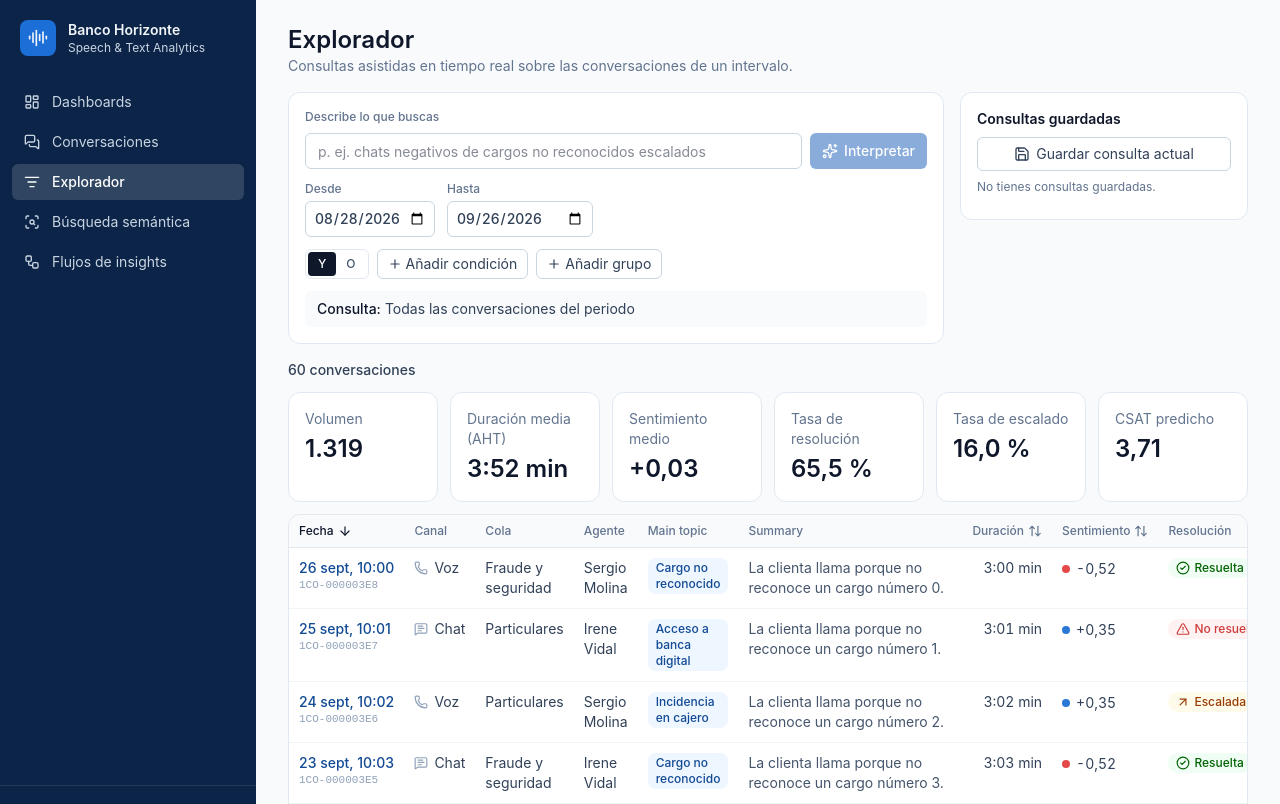
Test: consultas guardadas › guarda la consulta actual sin las condiciones incompletas
Click the button "Añadir condición". click: (452, 264)
box: [377,249,528,279]
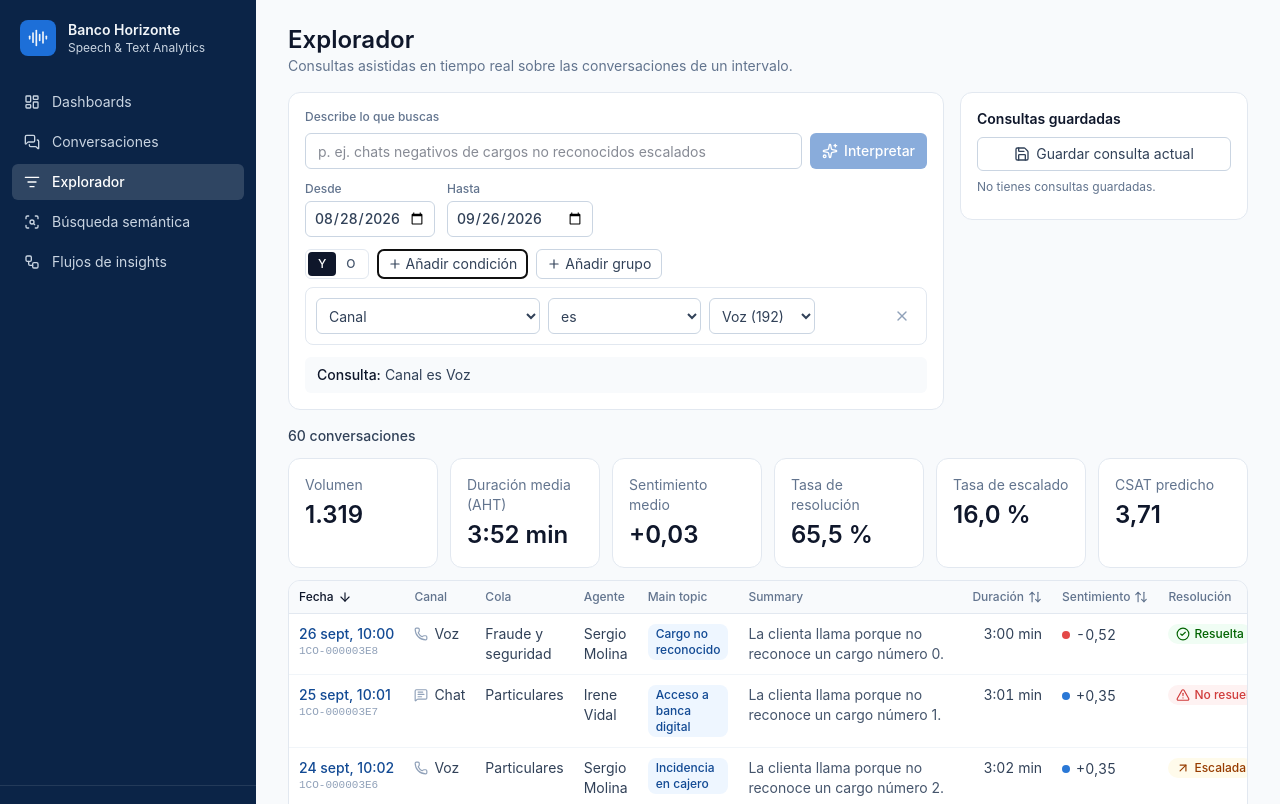
Click the button "Añadir condición". click: (452, 264)
box: [377,249,528,279]
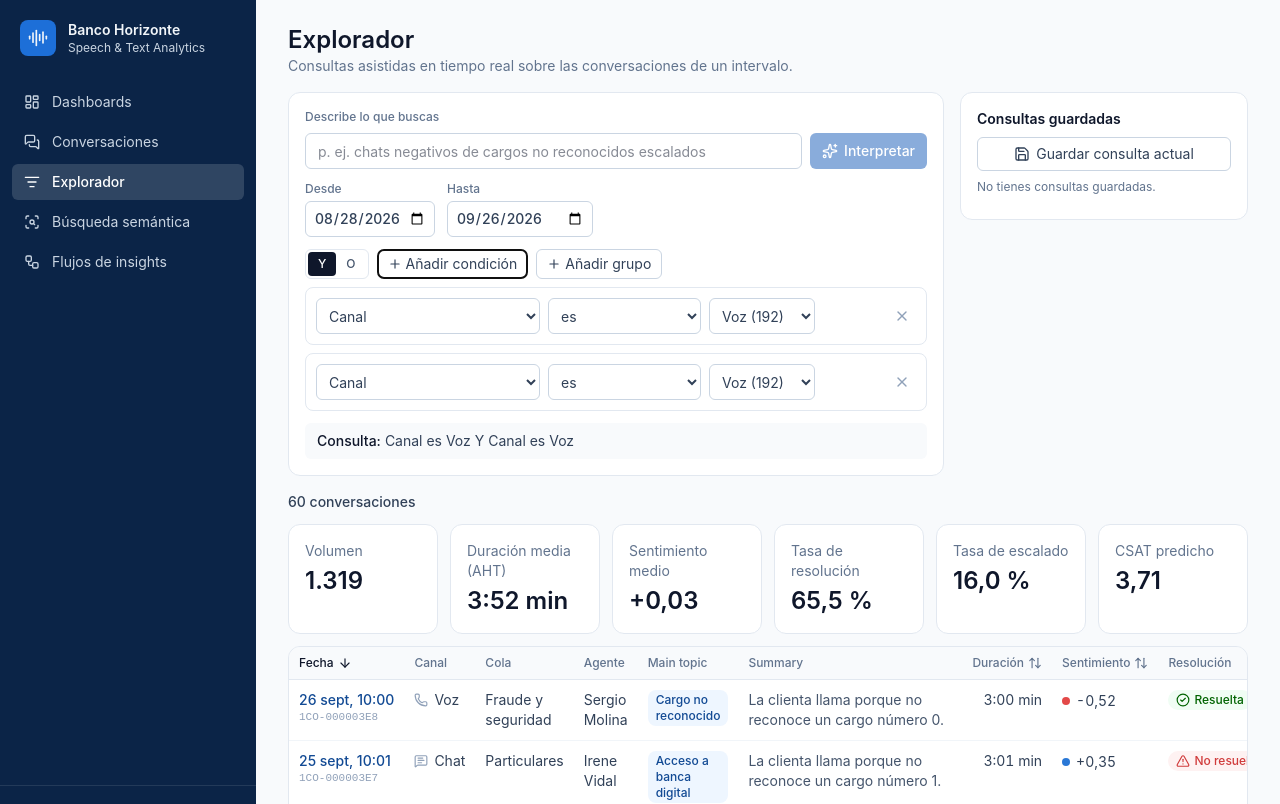
Select "Transcripción" in the 2nd dropdown named "Campo". click: (428, 382)
box: [316,364,540,400]
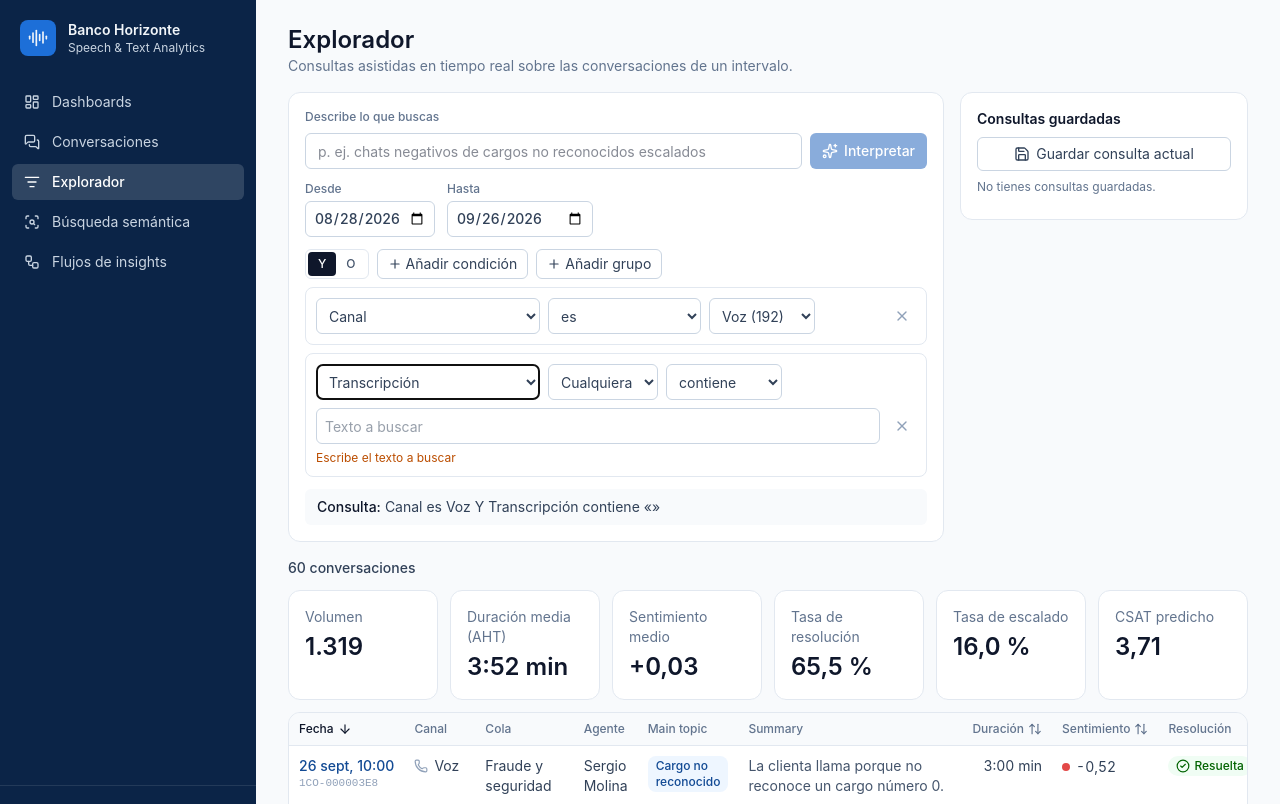
Click the button "Guardar consulta actual". click: (1104, 154)
box: [977,137,1231,171]
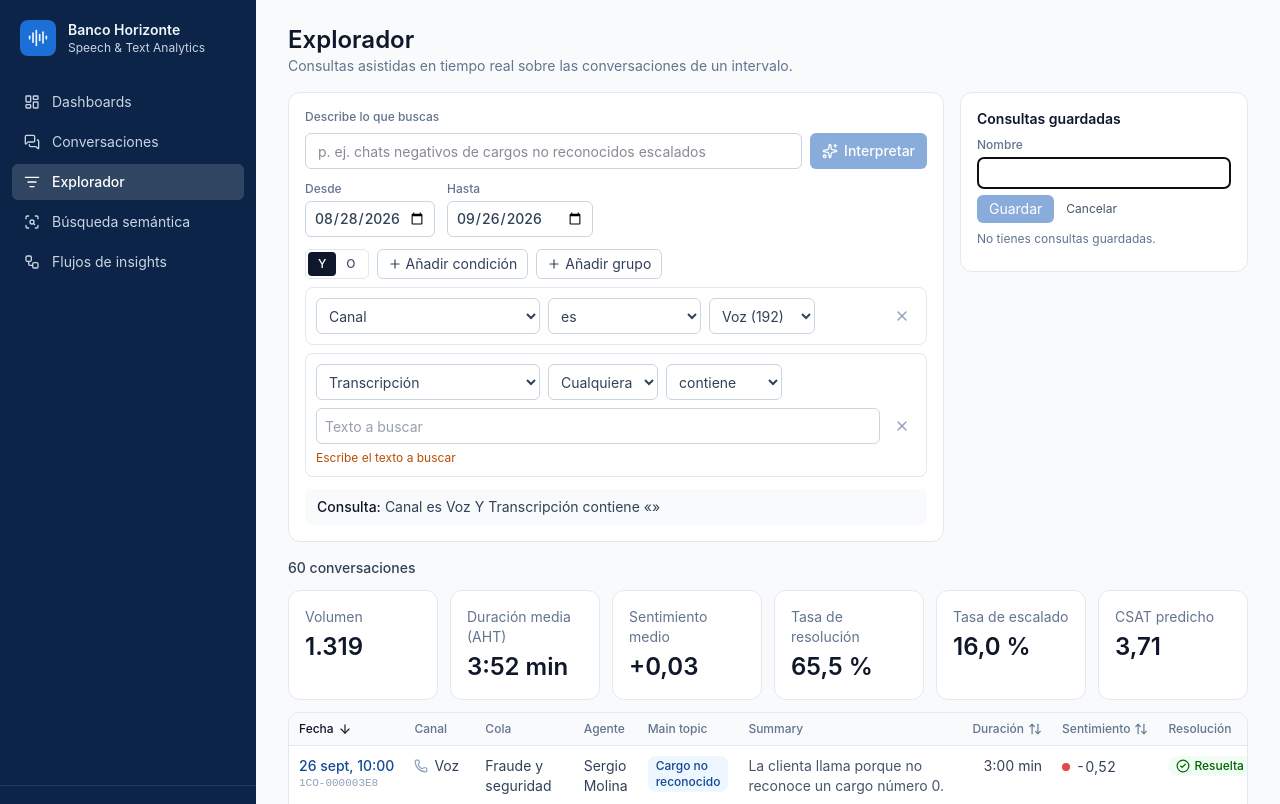
Expected: the button "Guardar" is disabled, [977,195,1054,223]
Type "  Mis llamadas  " into the field labelled "Nombre". click: (1104, 173)
box: [977,157,1231,189]
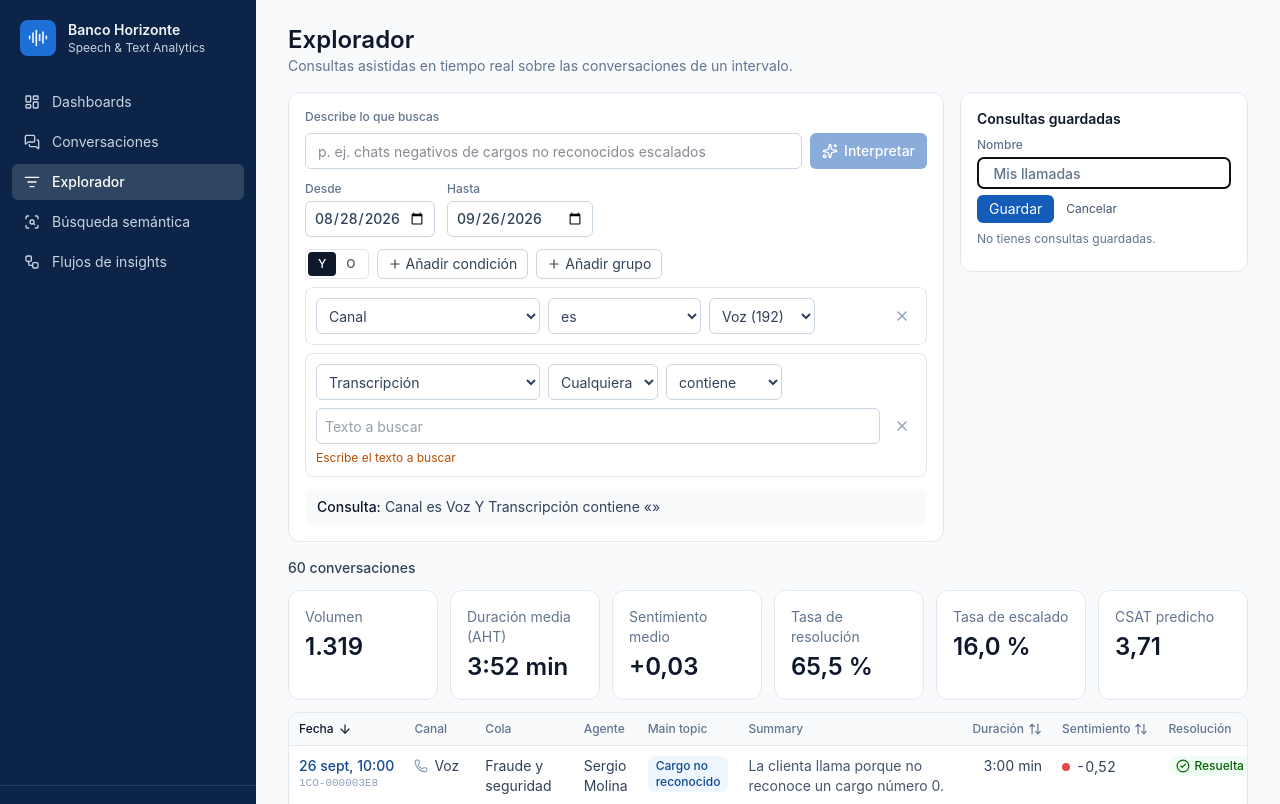
Click the button "Guardar". click: (1016, 209)
box: [977,195,1054,223]
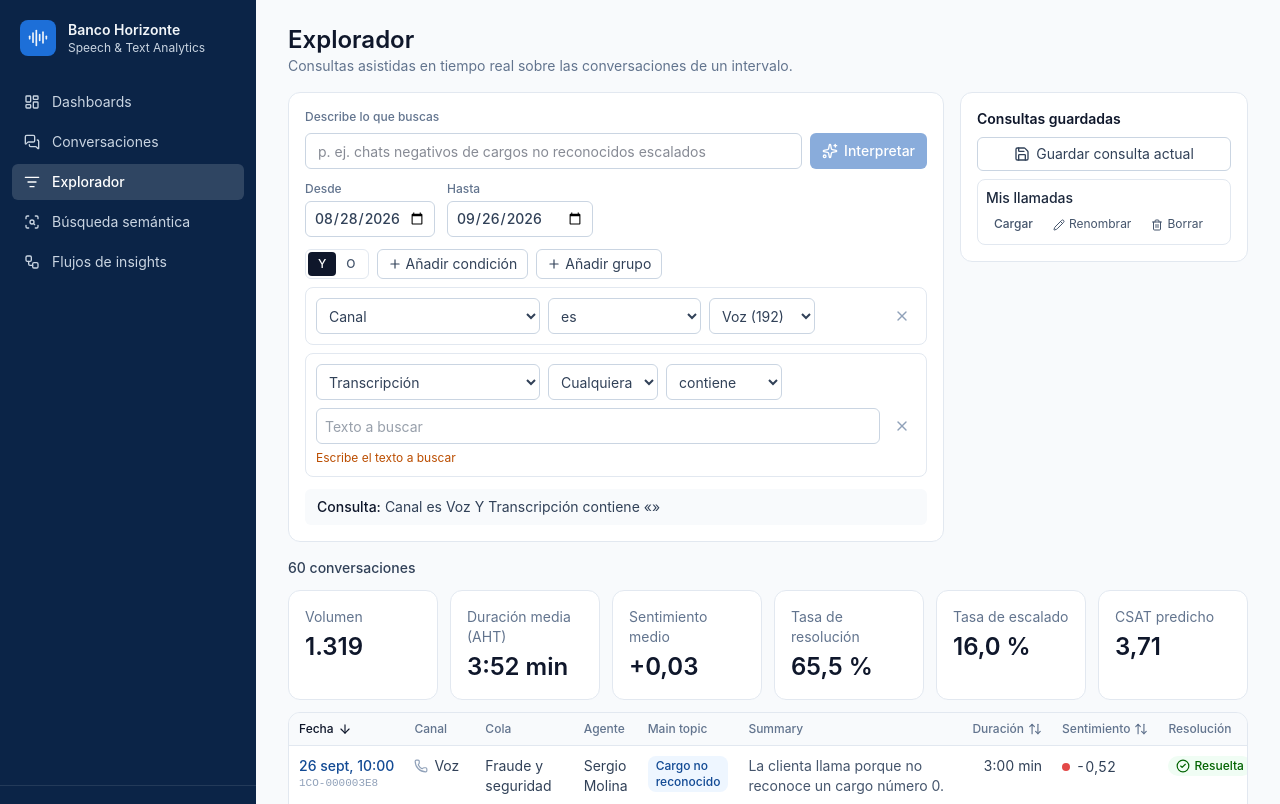
Expected: the text "Mis llamadas" is shown, [986,189,1073,206]
